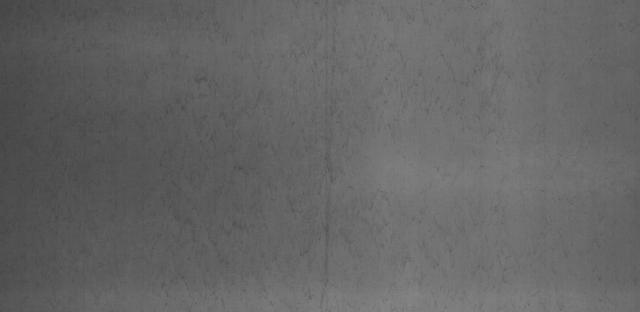silk_spot: (346, 13, 624, 288), (127, 21, 337, 237)
